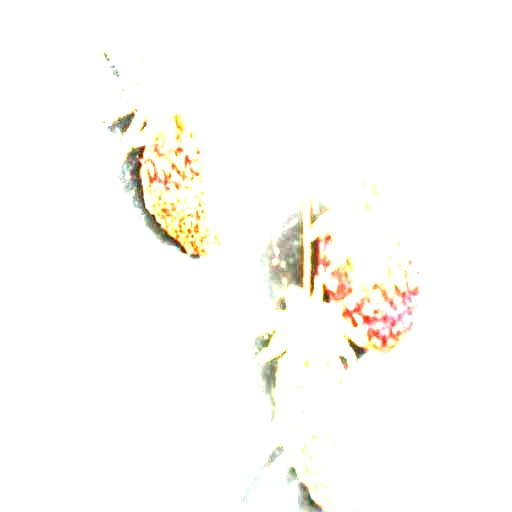Gray Mold: (248, 280, 369, 511)
